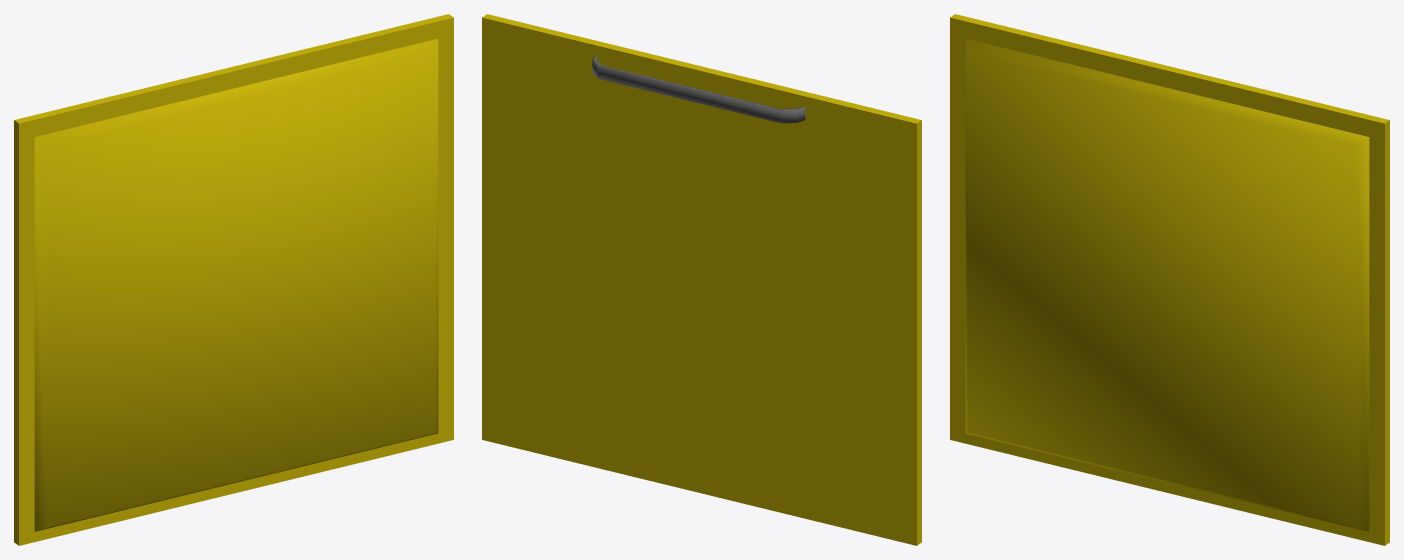
File: SNWP_MOD_BUN_Oven_door.fbx
The picture shows the model from 3 angles, left to right: view 1: azimuth 30°, elevation 25°; view 2: azimuth 150°, elevation 25°; view 3: azimuth 330°, elevation 25°; orthographic projection.
Parts seen in each view (by area): view 1: SNWP_MOD_Bunker_oven_door; view 2: SNWP_MOD_Bunker_oven_door; view 3: SNWP_MOD_Bunker_oven_door.
Boxes of the visible parts, x1,y1,x2,y2 form: SNWP_MOD_Bunker_oven_door: [14, 14, 453, 545]; SNWP_MOD_Bunker_oven_door: [482, 14, 921, 545]; SNWP_MOD_Bunker_oven_door: [950, 14, 1389, 545].
Size of the model in its own units: 0.5165 by 0.4794 by 0.0404.
